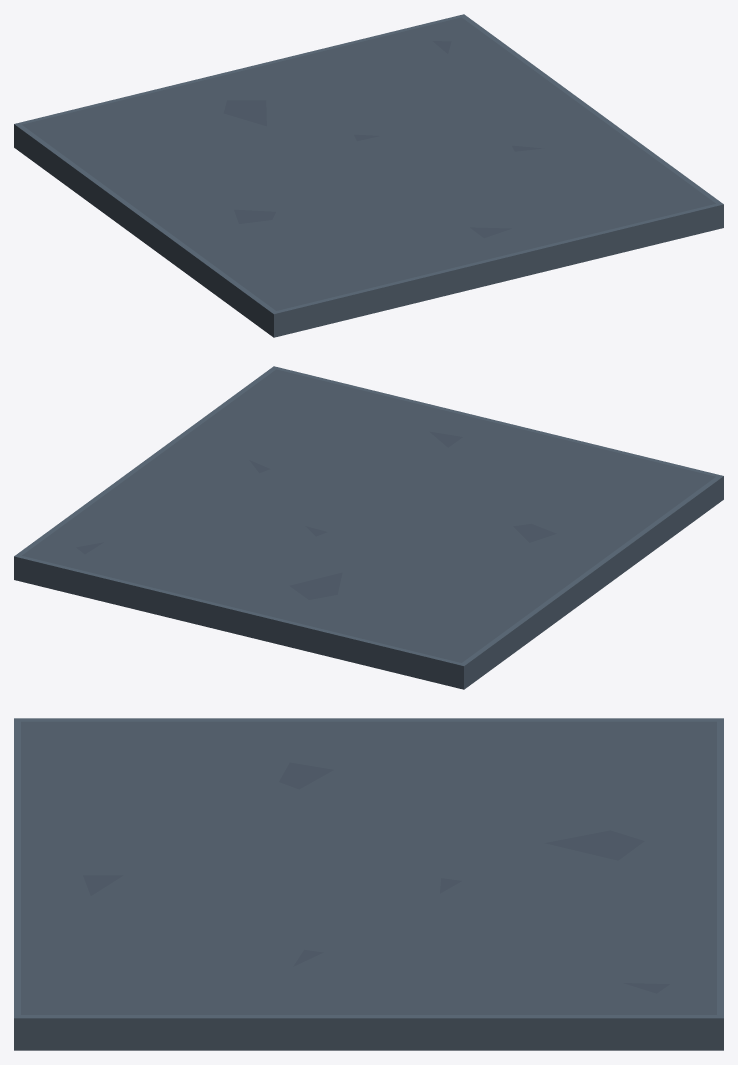
Rendered from ConcrateSlabs_C_1_2.obj.
3 renders of one model, top to bottom at view 1: azimuth 30°, elevation 25°; view 2: azimuth 150°, elevation 25°; view 3: azimuth 270°, elevation 25°, orthographic. The views are drawn at different scales.
Visible parts, largest first — view 1: ConcrateSlabs_C_1_2; view 2: ConcrateSlabs_C_1_2; view 3: ConcrateSlabs_C_1_2.
Boxes of the visible parts, box(x1,y1,x2,y2) form: ConcrateSlabs_C_1_2: box(14, 14, 723, 337); ConcrateSlabs_C_1_2: box(14, 366, 723, 689); ConcrateSlabs_C_1_2: box(14, 718, 723, 1050).
Bounding box in the file's own units: 8 × 0.4 × 8.
